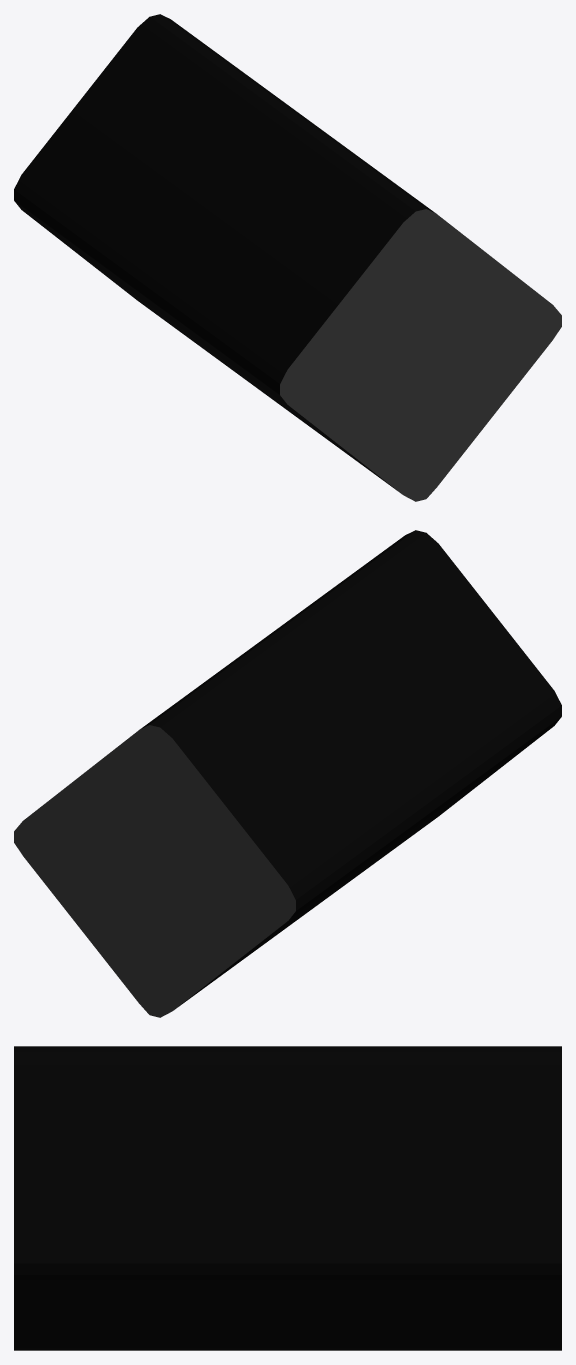
3 views of the same model, one above another, from view 1: azimuth 30°, elevation 25°; view 2: azimuth 150°, elevation 25°; view 3: azimuth 270°, elevation 25° (orthographic). The views are drawn at different scales.
Parts seen in each view (by area): view 1: ._Soul_Black; view 2: ._Soul_Black; view 3: ._Soul_Black.
Boxes of the visible parts, <box> form: ._Soul_Black: <box>14,14,561,501</box>; ._Soul_Black: <box>14,530,561,1017</box>; ._Soul_Black: <box>14,1046,561,1350</box>.
Size of what is drawn, in the model's own units: 0.0275 by 0.0271 by 0.045.
Materials: 2 (2 with a texture image).
